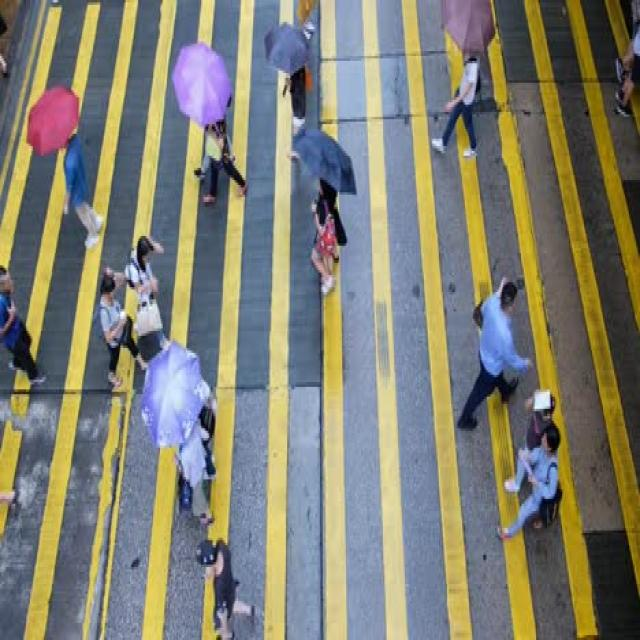Pedestrians: (451, 270, 531, 436), (494, 428, 563, 562), (189, 536, 258, 638), (52, 141, 107, 248), (1, 268, 46, 397), (93, 268, 139, 389), (438, 51, 482, 161), (308, 178, 347, 299), (193, 117, 249, 199), (126, 234, 165, 348), (614, 20, 639, 126)
